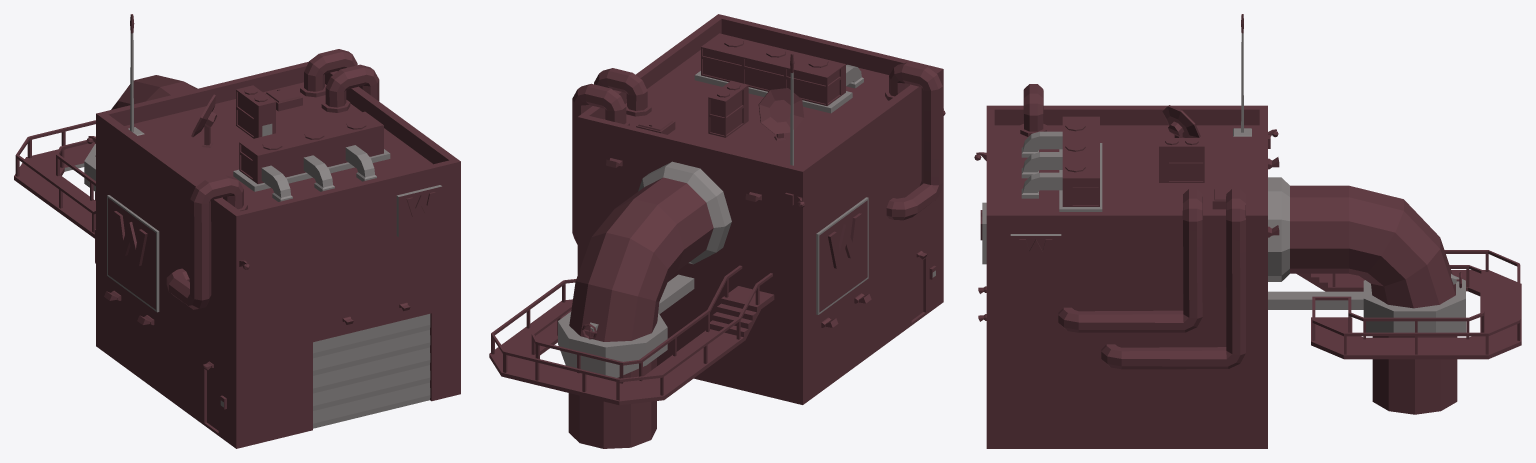
The model's file is water-station-small-ground.fbx.
The picture shows the model from 3 angles, left to right: view 1: azimuth 30°, elevation 25°; view 2: azimuth 150°, elevation 25°; view 3: azimuth 270°, elevation 25°; orthographic projection.
Parts seen in each view (by area): view 1: water-station-small-ground; view 2: water-station-small-ground; view 3: water-station-small-ground.
Part boxes in pixels (bbox=[...]): water-station-small-ground: bbox=[14, 14, 460, 448]; water-station-small-ground: bbox=[489, 14, 945, 448]; water-station-small-ground: bbox=[974, 14, 1521, 448].
Bounding box in the file's own units: 10.72 × 12.97 × 19.13.
